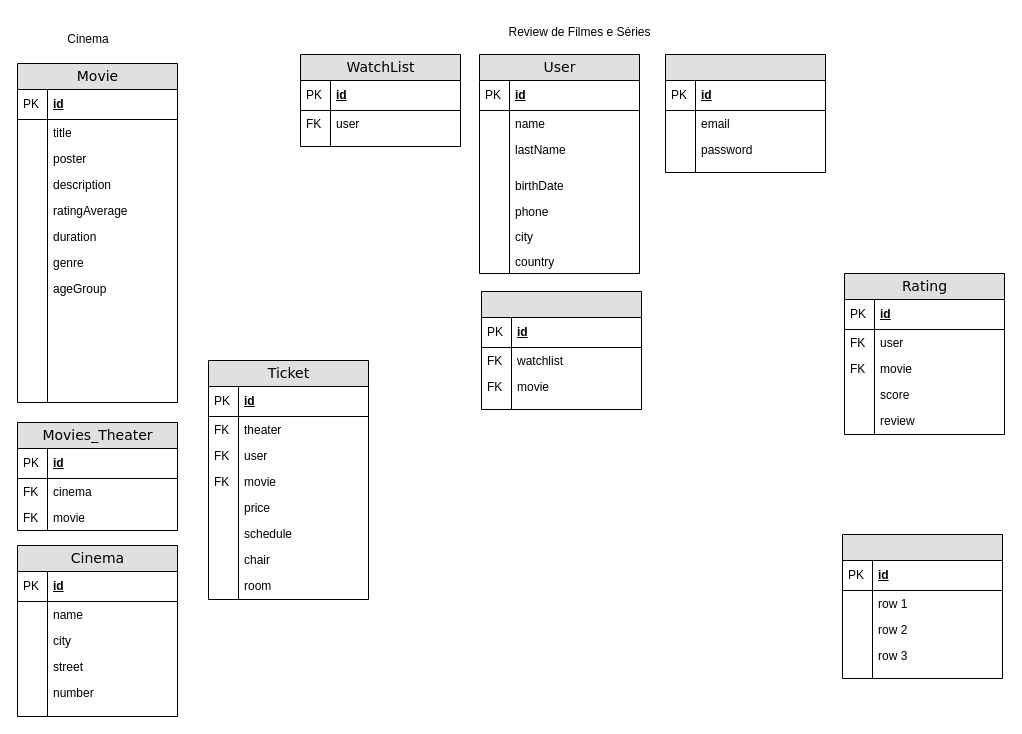
This 1022x734 diagram has some shape labels left out. Here are the shapes that lost their labels. From the top down, the box of each, then its label:
(664, 54, 826, 172): Account
(480, 290, 642, 410): Movies_in_watchlist
(842, 534, 1002, 678): Productions
